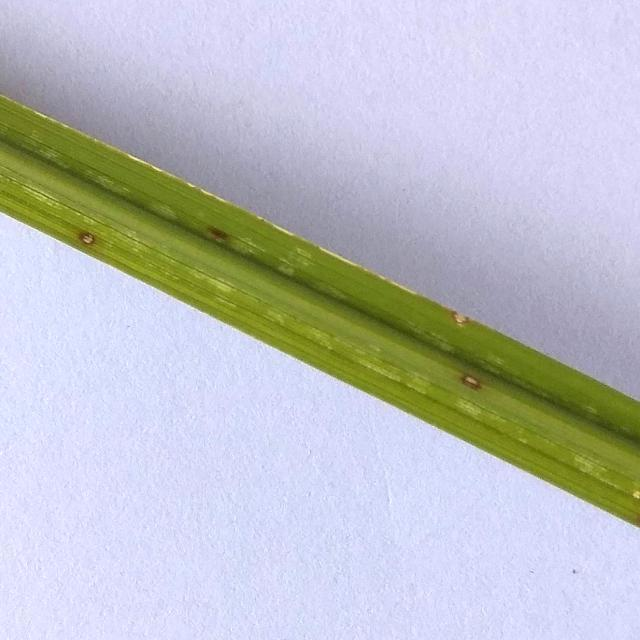Blast: (458, 371, 484, 396), (206, 222, 231, 244), (76, 229, 100, 244), (452, 312, 470, 329)
